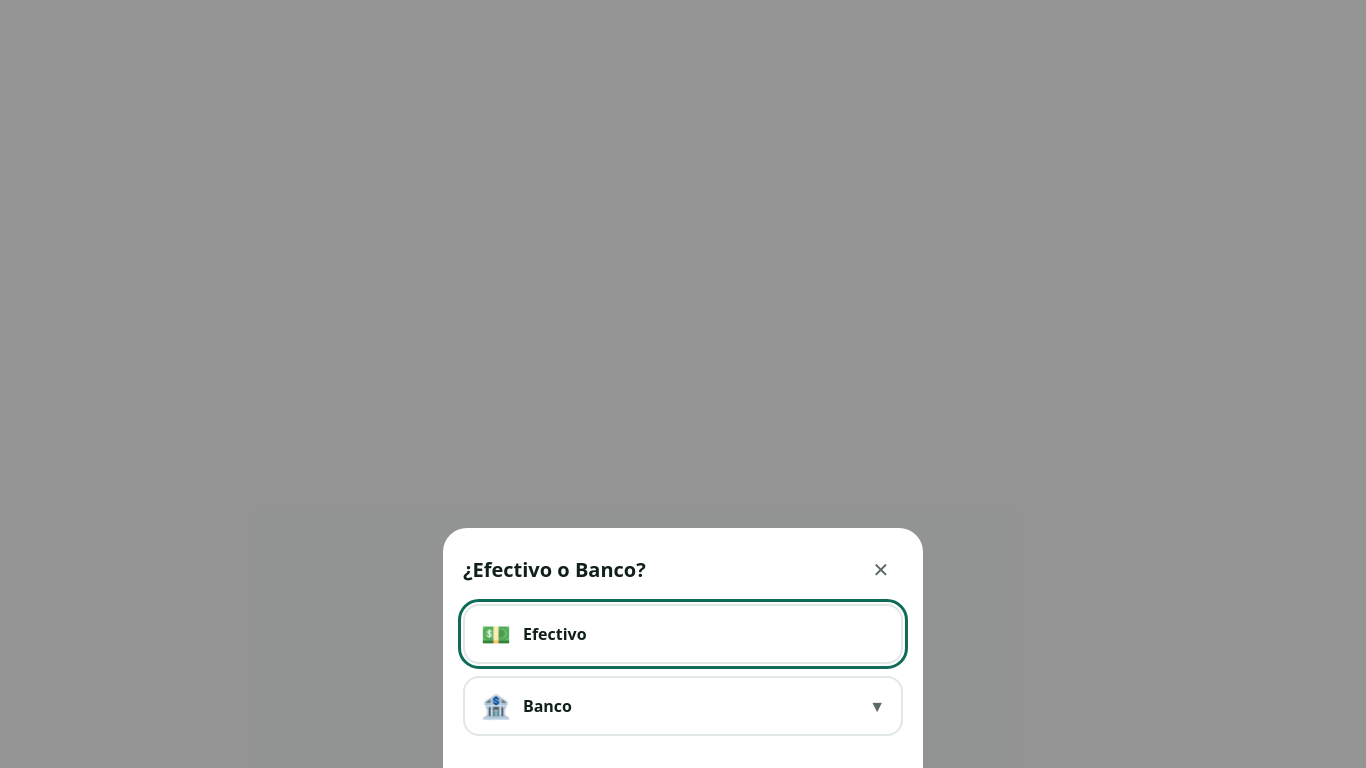
Scenario: Hoja «¿Efectivo o Banco?» › Banco se despliega ahí mismo con las cuentas y su marca; elegir una la devuelve
The image size is (1366, 768).
Later steps or results of the test are not shown.
What coordinates should you click on to do the following:
click the button "🏦 Banco ▼"
I would click on:
 (547, 706)
Its box is [463, 676, 903, 736].
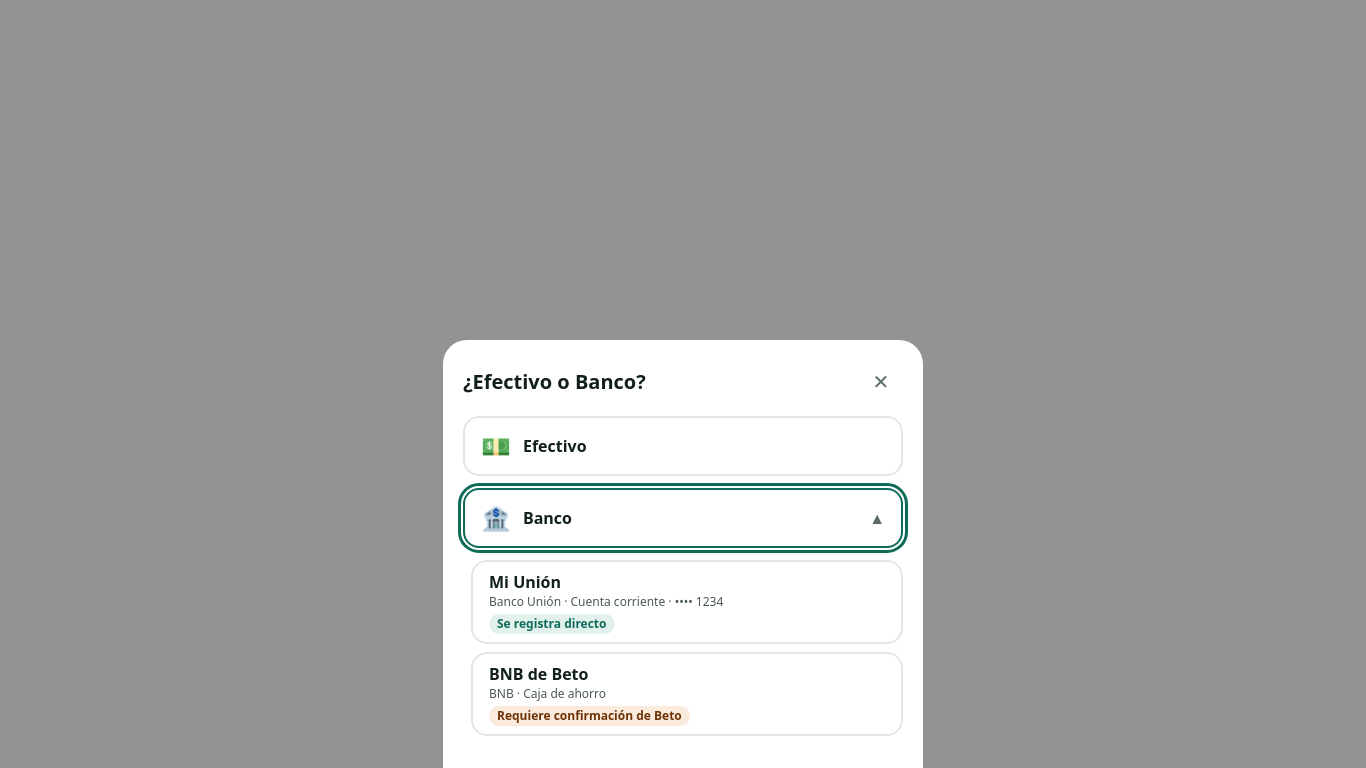
Check: the button with test id "opcion-cuenta" shows "Mi Unión", box [471, 560, 903, 644]
Check: the button with test id "opcion-cuenta" shows "Se registra directo", box [471, 560, 903, 644]
Check: the button with test id "opcion-cuenta" shows "Requiere confirmación de Beto", box [471, 652, 903, 736]
